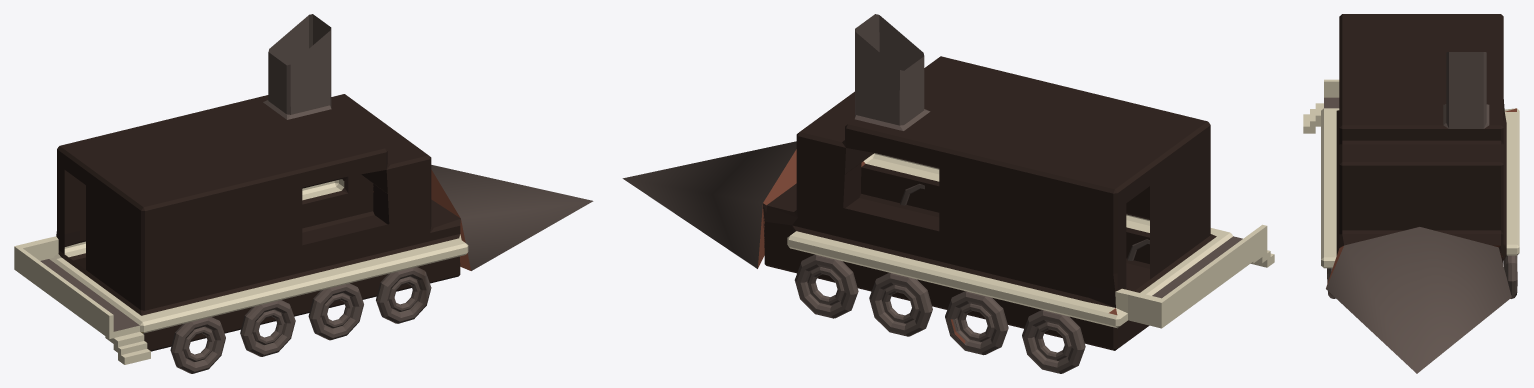
The model's file is tren.fbx.
The picture shows the model from 3 angles, left to right: view 1: azimuth 30°, elevation 25°; view 2: azimuth 150°, elevation 25°; view 3: azimuth 270°, elevation 25°; orthographic projection. The views are drawn at different scales.
Parts seen in each view (by area): view 1: Cone, Cone.001; view 2: Cone, Cone.001; view 3: Cone, Cone.001.
Part boxes in pixels (box(x1,y1,x2,y2)): Cone: box(14, 14, 593, 364); Cone.001: box(170, 267, 431, 373); Cone: box(622, 14, 1274, 350); Cone.001: box(794, 184, 1149, 373); Cone: box(1303, 14, 1519, 373); Cone.001: box(1327, 255, 1517, 298).
Bounding box in the file's own units: 2041 × 922 × 760.
1 material, 1 textured.
